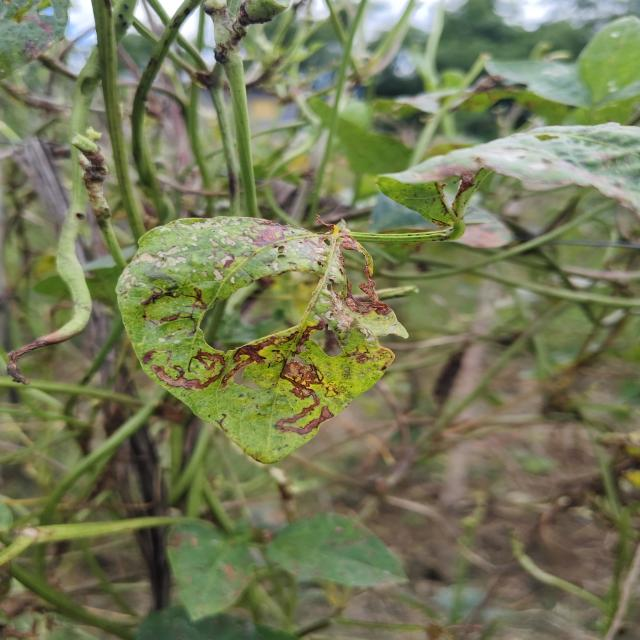leaf-moderate: (116, 217, 408, 464)
sitaw-aphid-moderate: (131, 0, 203, 222)
